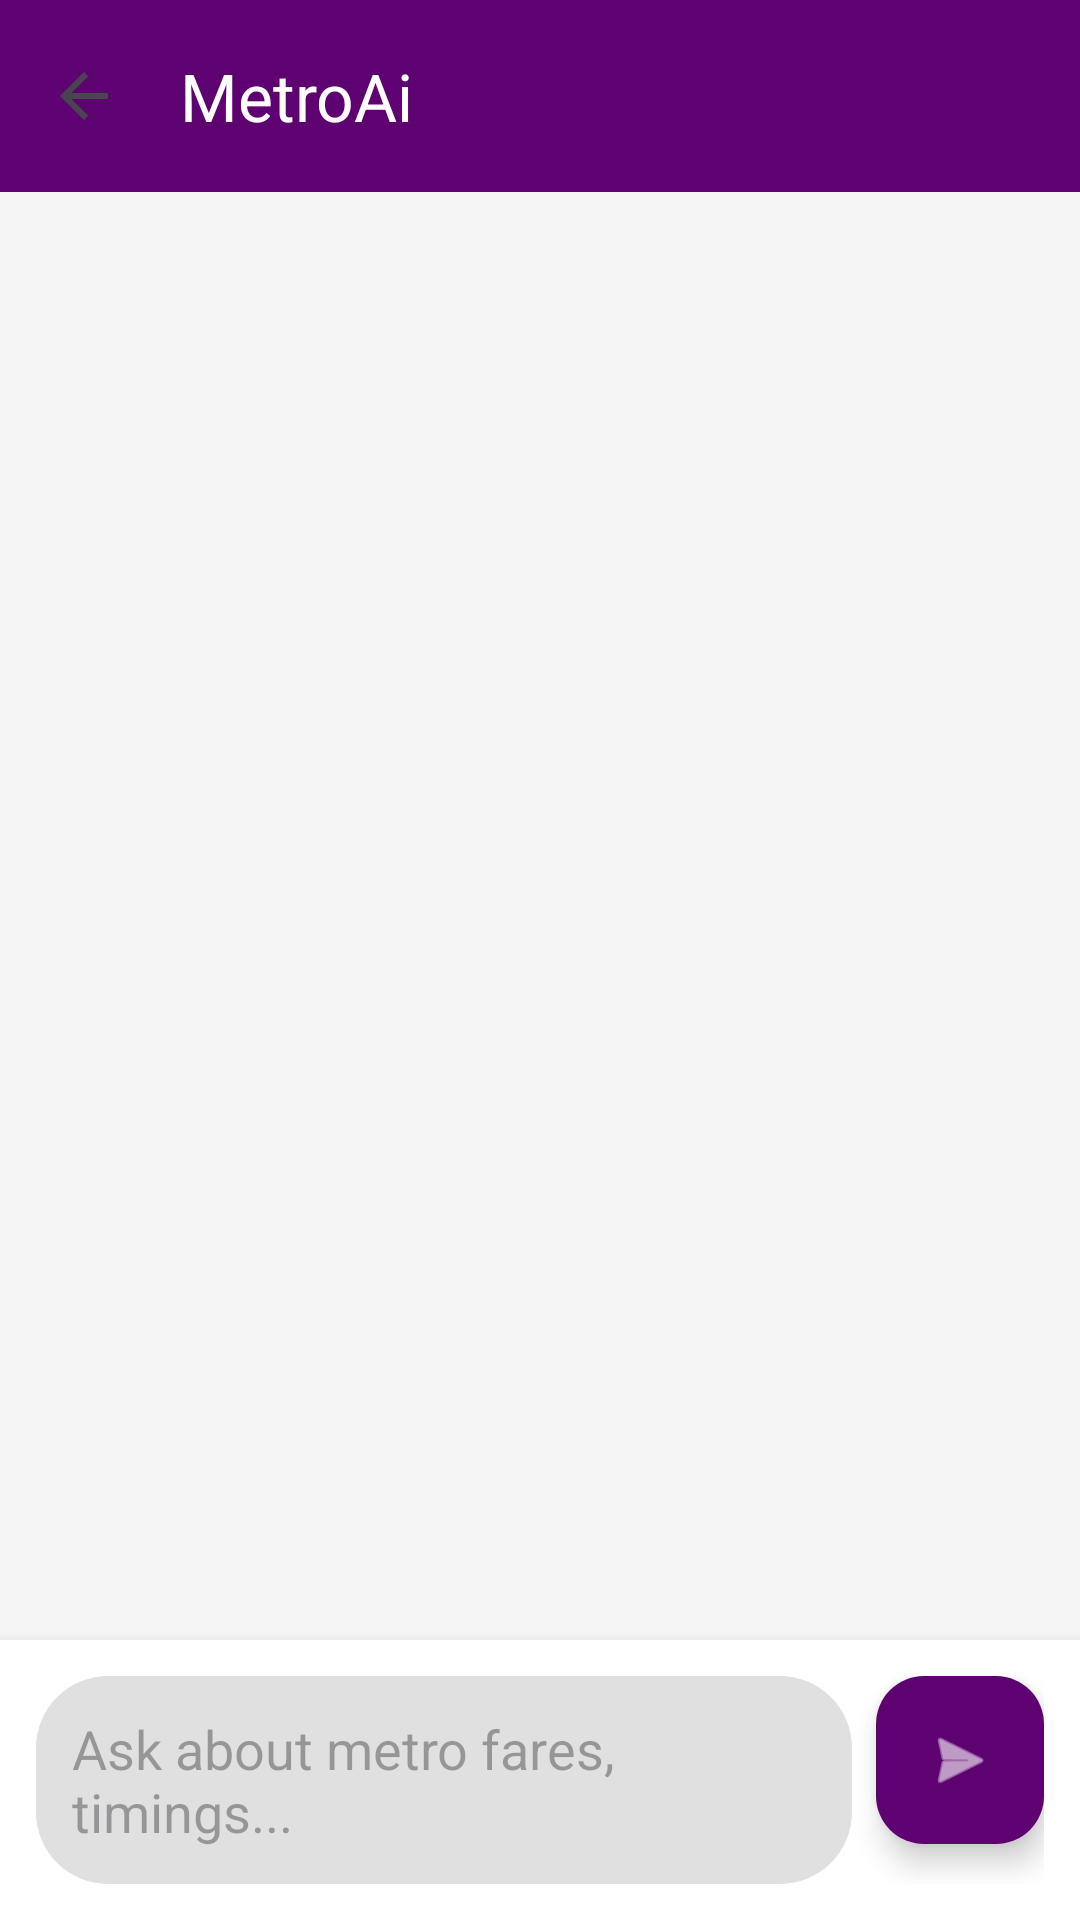

Named icons in this screenshot (1080*1920) and their bounding boxes, (x1, y1, x2, y2):
send: (876, 1676, 1044, 1844)
